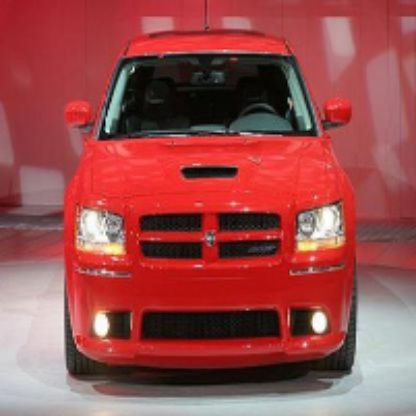Vehicle: (66, 31, 358, 391)
